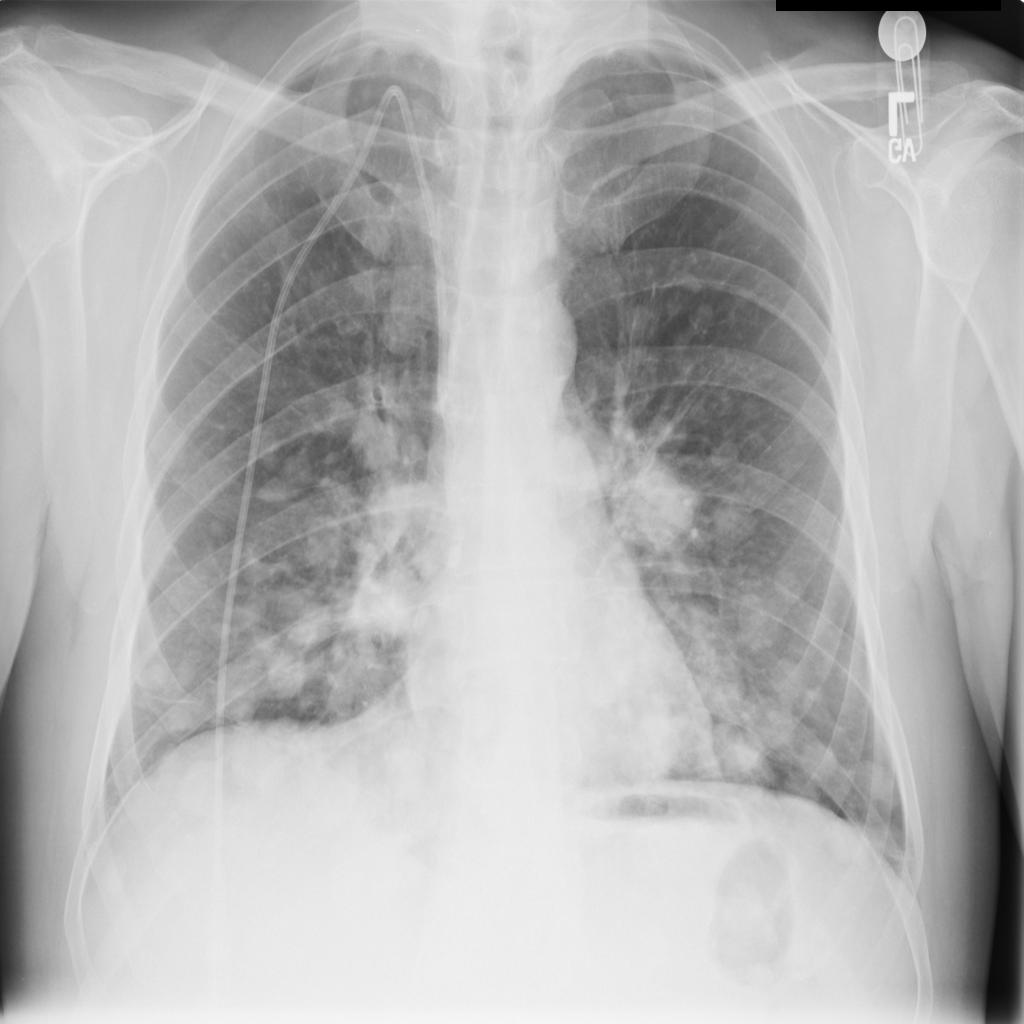nodule: (612, 447, 713, 555), (356, 562, 429, 646), (370, 274, 437, 363), (615, 707, 687, 785), (351, 403, 421, 483), (706, 717, 779, 792), (725, 686, 794, 763), (320, 633, 384, 716), (374, 721, 436, 804), (846, 743, 909, 823), (247, 438, 316, 511), (267, 588, 336, 661), (816, 807, 886, 877), (248, 639, 314, 713), (286, 510, 357, 578), (779, 729, 846, 800), (126, 636, 194, 705), (727, 586, 788, 661), (700, 485, 766, 554), (757, 645, 822, 715), (614, 295, 665, 349), (703, 430, 754, 484), (251, 472, 305, 521), (681, 288, 728, 344), (155, 696, 207, 746), (156, 647, 207, 697), (667, 250, 715, 303), (763, 556, 811, 609), (190, 505, 243, 551)
